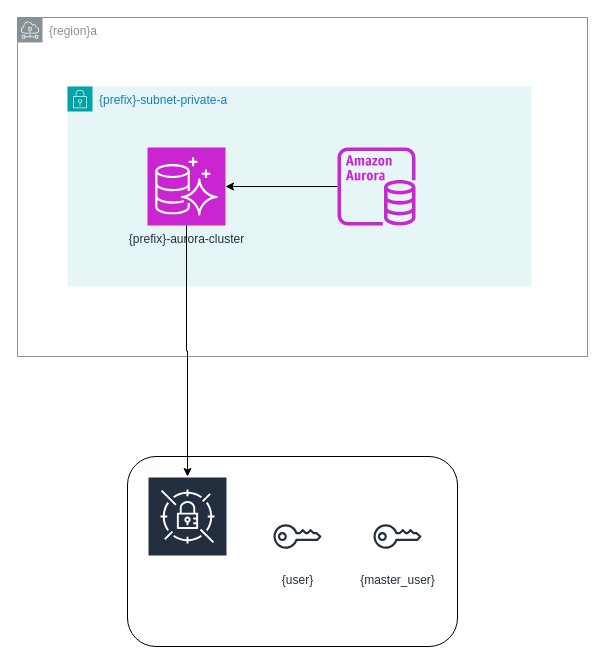
Some shapes in this 605 by 664 pixel diagram are drawn without their labels. Each missing label, with the centre of its shape:
"AWS Secrets Manager" belongs at [187,531].
"{prefix]-aurora-cluster-instance" belongs at [376,186].
